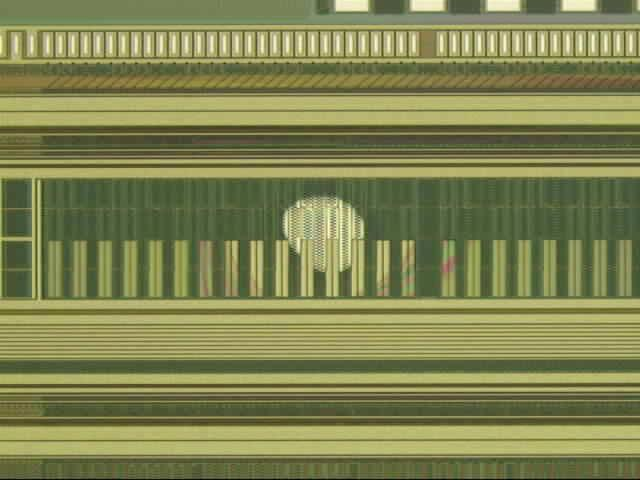BLOCK ETCH: (275, 187, 371, 283)
